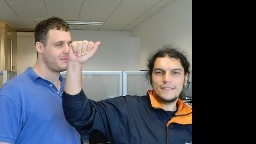Pugno: (64, 40, 101, 61)
